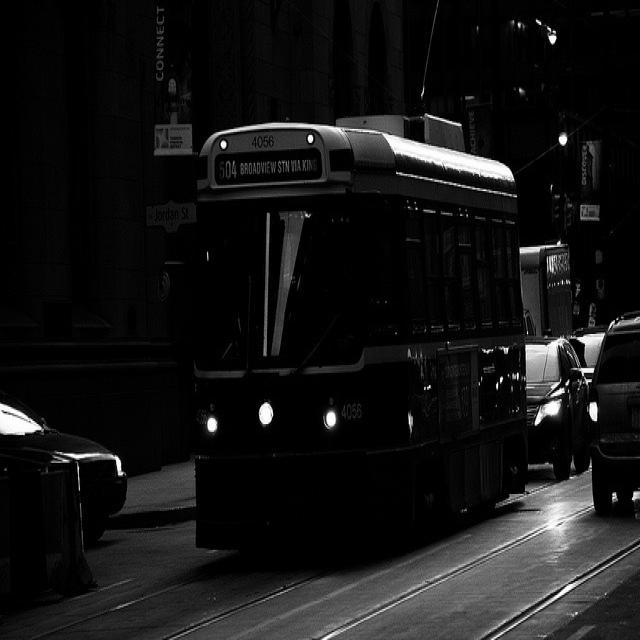Bus: (166, 100, 530, 542)
car: (0, 368, 128, 539), (585, 297, 640, 540), (515, 320, 590, 486)
